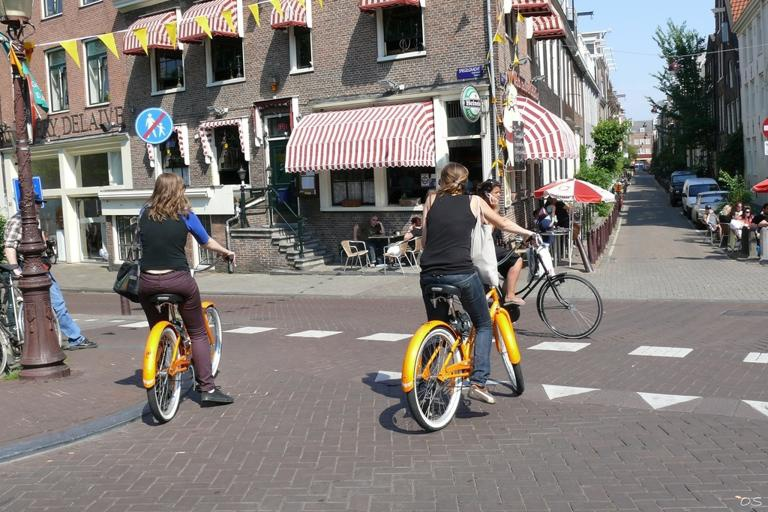non-vehicle: (399, 230, 538, 435), (457, 227, 606, 340), (139, 253, 235, 425), (0, 260, 62, 379)
